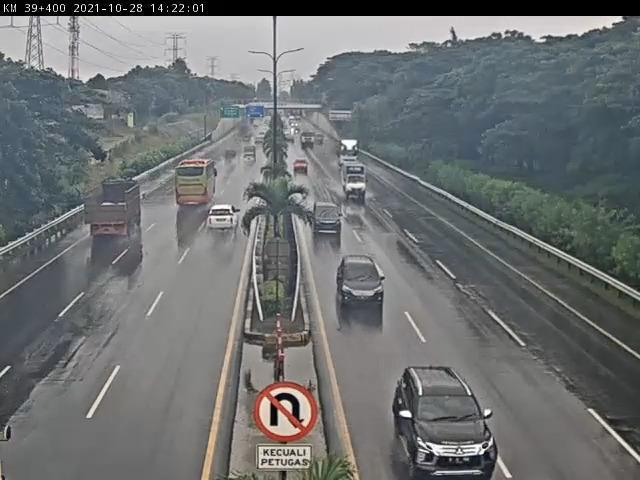bus: (174, 158, 218, 212)
car: (395, 366, 501, 478), (339, 256, 388, 312), (310, 203, 344, 235), (206, 206, 241, 236), (293, 155, 310, 173)
truck: (82, 183, 142, 240), (343, 162, 369, 200)
